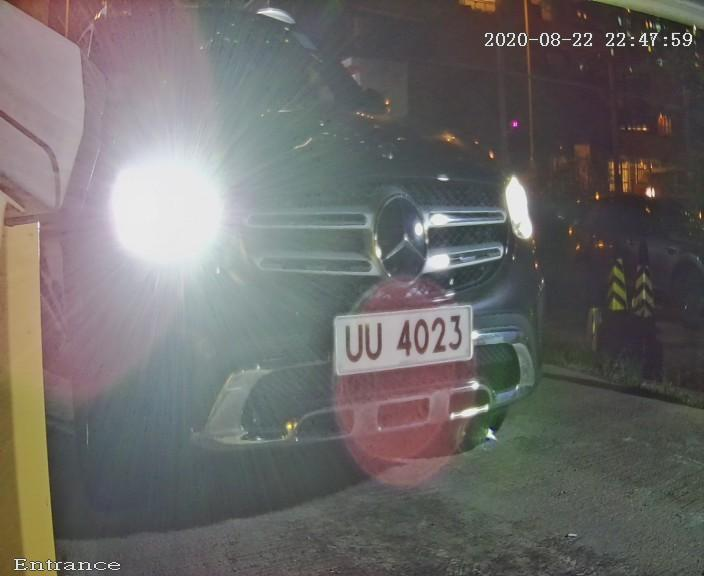Car: (19, 19, 598, 530)
License Plate: (298, 268, 521, 418)
